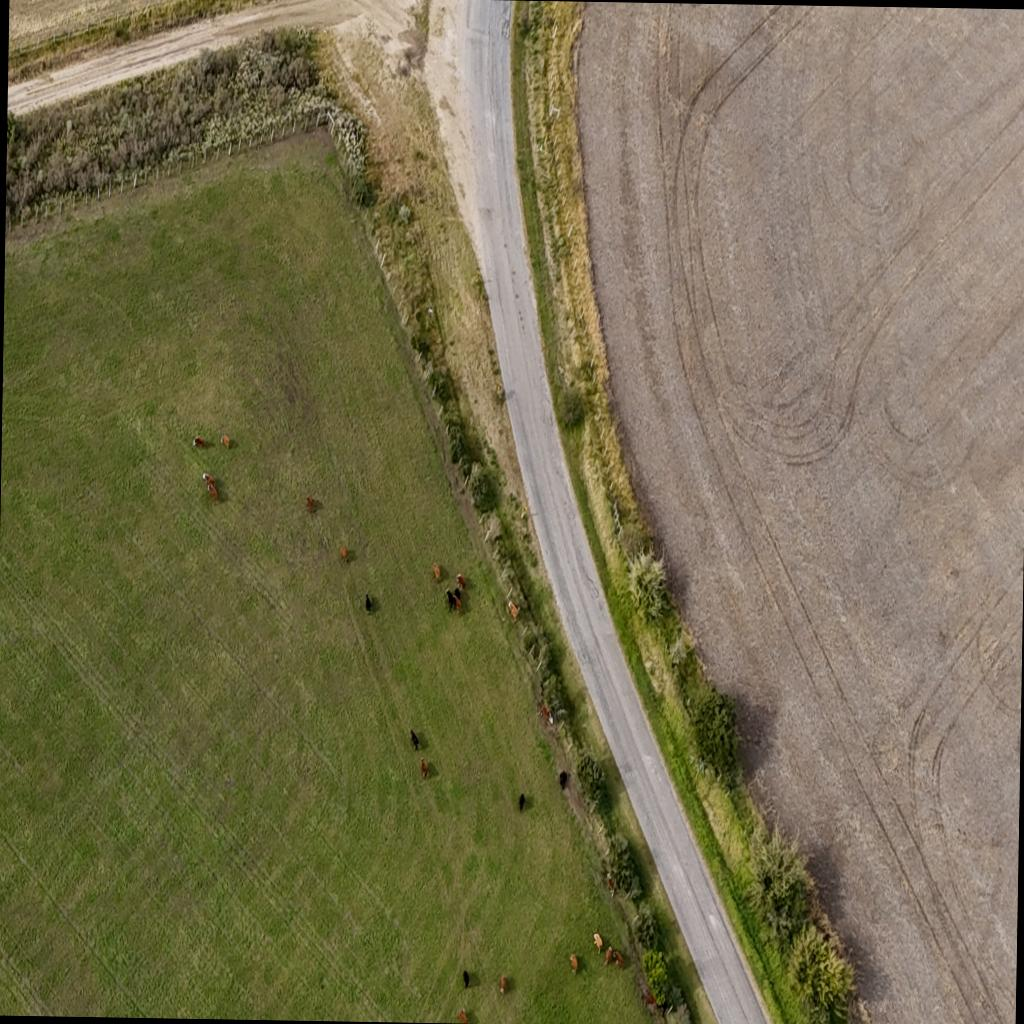cow: (206, 480, 218, 504), (444, 587, 454, 615), (516, 790, 526, 812), (410, 729, 420, 751), (593, 932, 603, 954), (643, 990, 656, 1006), (452, 594, 462, 614), (613, 950, 623, 970), (540, 703, 550, 723), (559, 770, 568, 790), (456, 572, 466, 590), (569, 953, 578, 973), (420, 758, 428, 780), (604, 945, 612, 966), (201, 470, 213, 484), (432, 562, 440, 582), (606, 876, 614, 896), (220, 434, 230, 450), (499, 975, 506, 997), (462, 970, 470, 988), (364, 594, 372, 612), (340, 546, 348, 564), (506, 600, 514, 618), (458, 1008, 468, 1022), (194, 435, 204, 448), (306, 496, 314, 512)
